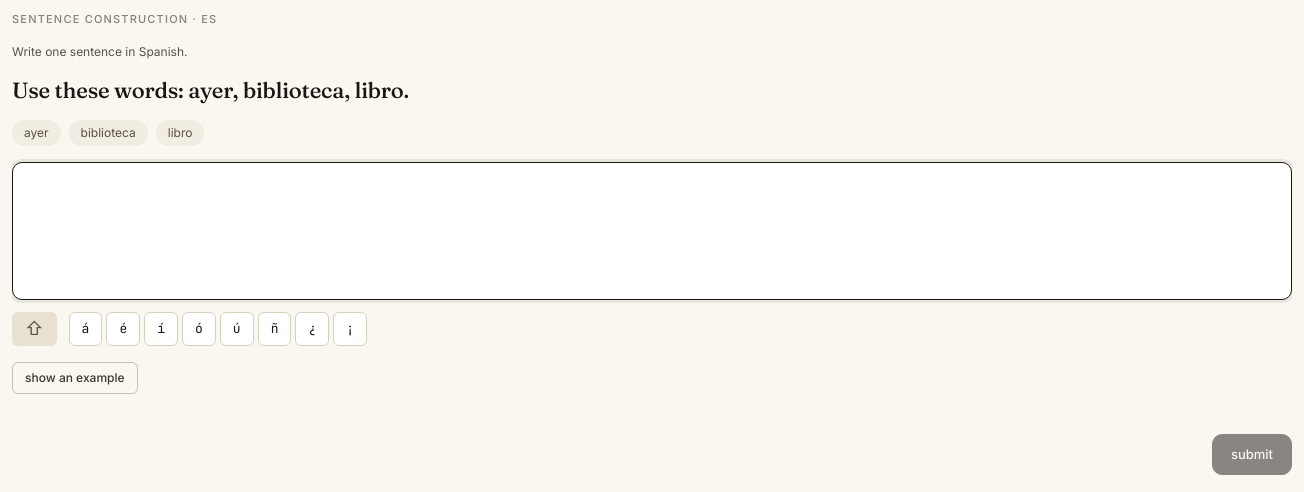
Test: SentenceConstructionExercise › example reveal › reveals the first model answer when "show an example" is clicked
Step 1. Click the button "show an example" → {"x": 75, "y": 378}, box [12,362,138,394]
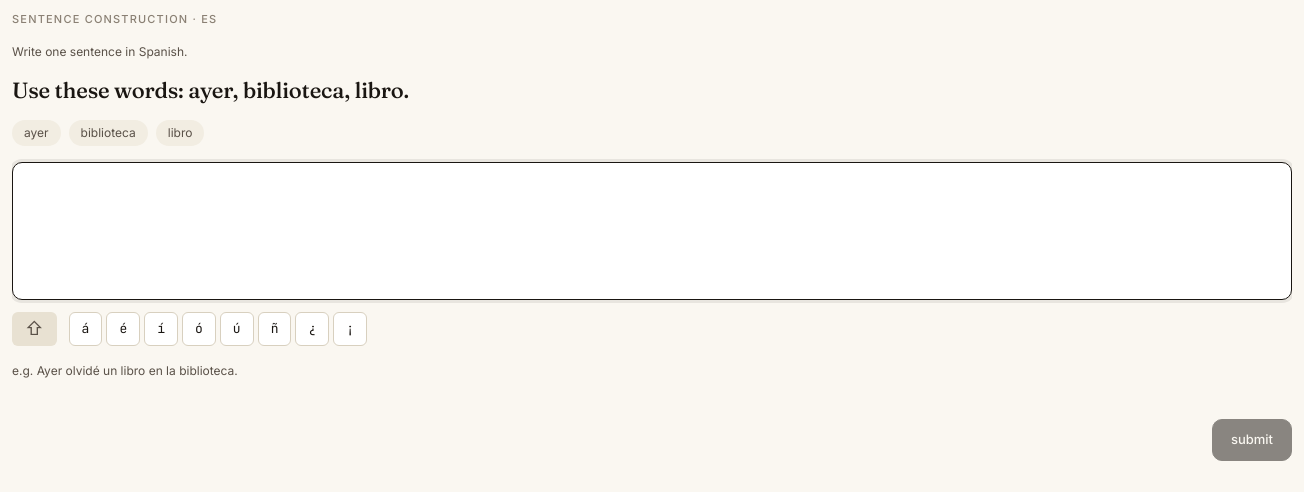
Now the text "e.g. Ayer olvidé un libro en la biblioteca." is shown, box [12,363,238,378]
